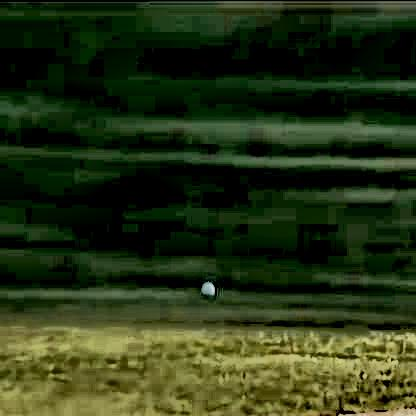golfball: (198, 279, 216, 297)
